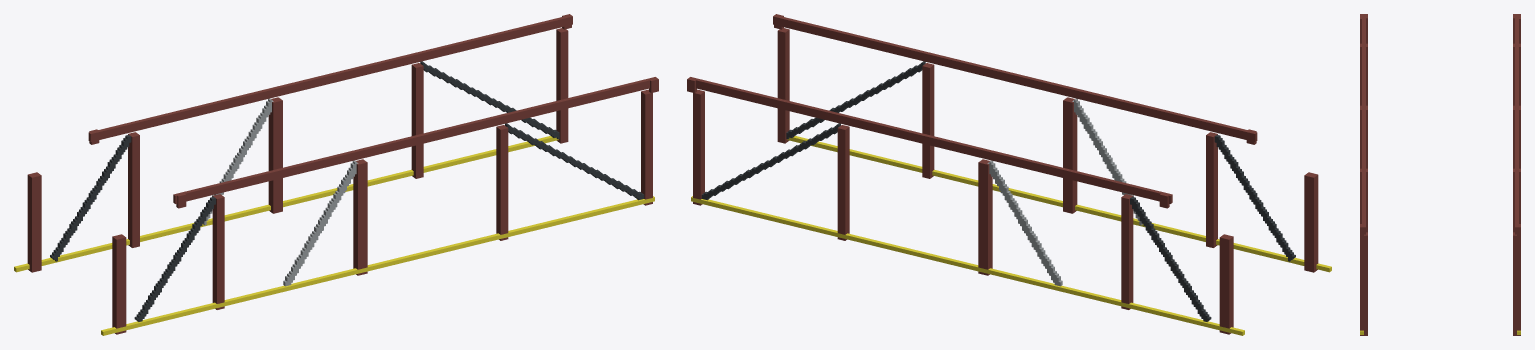
Rendered from car_transporter_deck_posts.glb.
3 views of the same model, side by side, from view 1: azimuth 30°, elevation 25°; view 2: azimuth 150°, elevation 25°; view 3: azimuth 270°, elevation 25° (orthographic). The views are drawn at different scales.
Visible parts, largest first — view 1: body:compound; view 2: body:compound; view 3: body:compound.
Boxes of the visible parts, x1,y1,x2,y2 form: body:compound: (14,14,658,335); body:compound: (687,14,1331,335); body:compound: (1360,14,1520,335).
Bounding box in the file's own units: 9 × 1.91 × 2.5.
